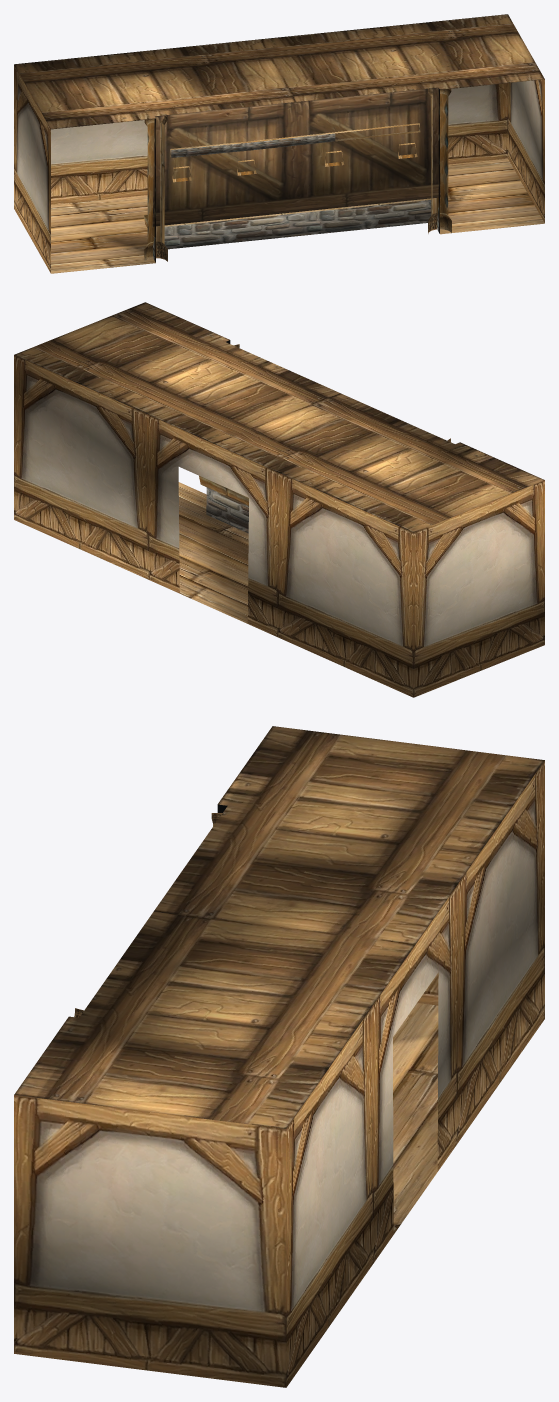
Rendered from stormwind_094.fbx.
3 renders of one model, top to bottom at view 1: azimuth 30°, elevation 25°; view 2: azimuth 150°, elevation 25°; view 3: azimuth 270°, elevation 25°, orthographic. The views are drawn at different scales.
Parts seen in each view (by area): view 1: stormwind_094_55, stormwind_094_56, stormwind_094_48, stormwind_094_51, stormwind_094_38, stormwind_094_53, stormwind_094_54, stormwind_094_50, stormwind_094_49; view 2: stormwind_094_48, stormwind_094_55, stormwind_094_51, stormwind_094_38; view 3: stormwind_094_48, stormwind_094_55, stormwind_094_51.
Part boxes in pixels (x1,y1,x2,y2): stormwind_094_55: (14, 14, 544, 129); stormwind_094_56: (152, 87, 440, 226); stormwind_094_48: (14, 65, 544, 273); stormwind_094_51: (51, 158, 544, 273); stormwind_094_38: (153, 133, 438, 259); stormwind_094_53: (144, 89, 451, 261); stormwind_094_54: (170, 123, 420, 181); stormwind_094_50: (154, 88, 439, 262); stormwind_094_49: (156, 92, 437, 261); stormwind_094_48: (14, 355, 544, 697); stormwind_094_55: (14, 302, 544, 532); stormwind_094_51: (178, 482, 248, 623); stormwind_094_38: (206, 487, 248, 533); stormwind_094_48: (14, 760, 544, 1387); stormwind_094_55: (14, 726, 544, 1128); stormwind_094_51: (393, 1003, 438, 1234).
Bounding box in the file's own units: 19.86 × 5.95 × 11.06.
